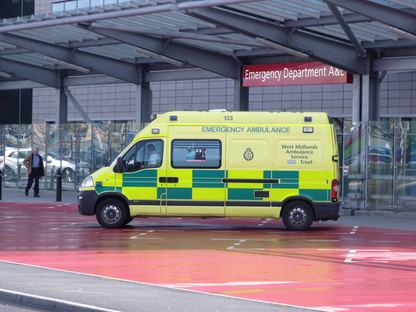ambulance: (75, 110, 341, 231)
